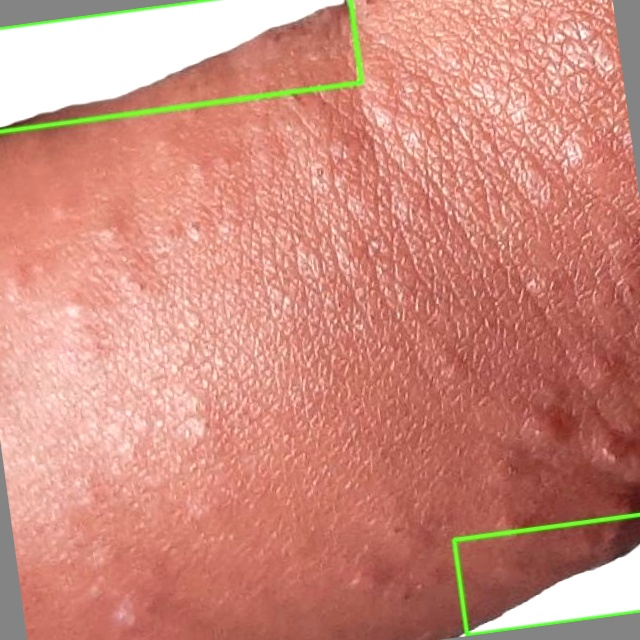Contact Dermatitis: (0, 0, 361, 131), (454, 514, 639, 635)
